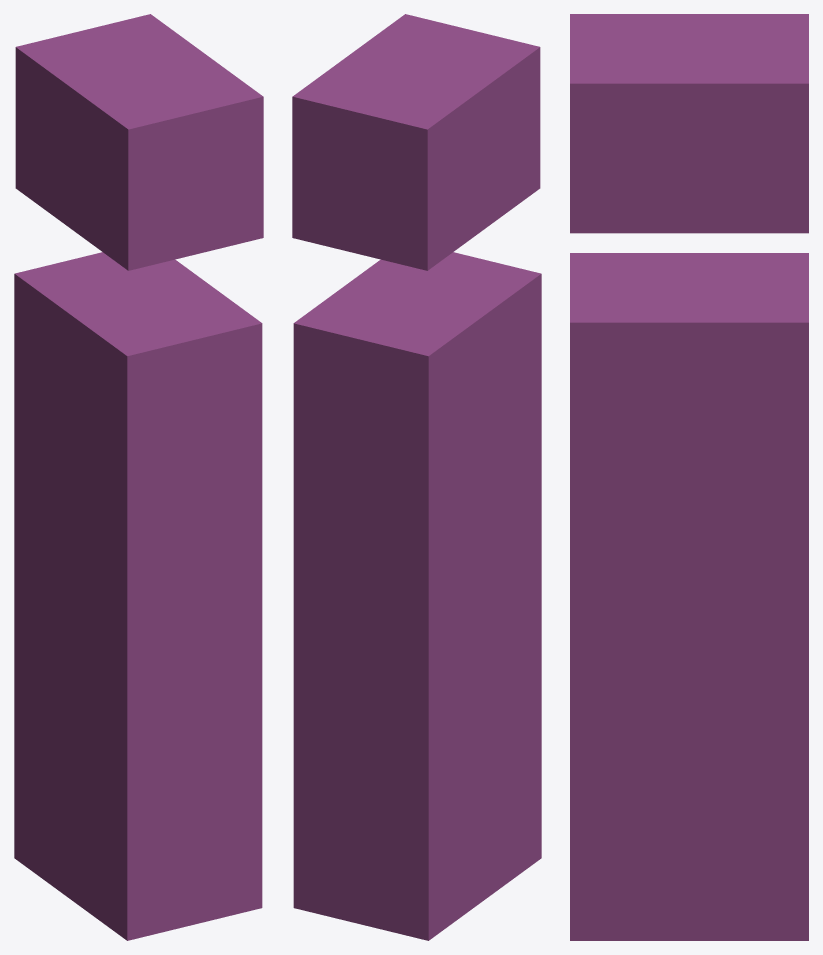
File: letter_i.fbx
3 renders of one model, left to right at view 1: azimuth 30°, elevation 25°; view 2: azimuth 150°, elevation 25°; view 3: azimuth 270°, elevation 25°, orthographic. The views are drawn at different scales.
Visible parts, largest first — view 1: i; view 2: i; view 3: i.
Part boxes in pixels (<box>): i: <box>14,14,263,940</box>; i: <box>292,14,541,940</box>; i: <box>570,14,808,940</box>.
Bounding box in the file's own units: 4.48 × 25.48 × 6.43.
